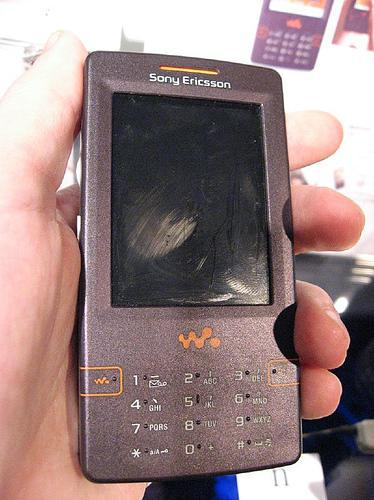phone: (76, 45, 318, 486)
